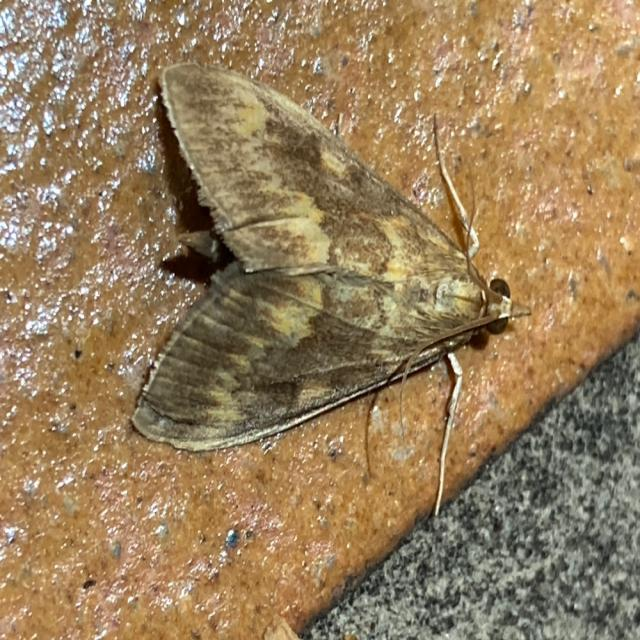cornborer-Adult-: (117, 43, 540, 454)
